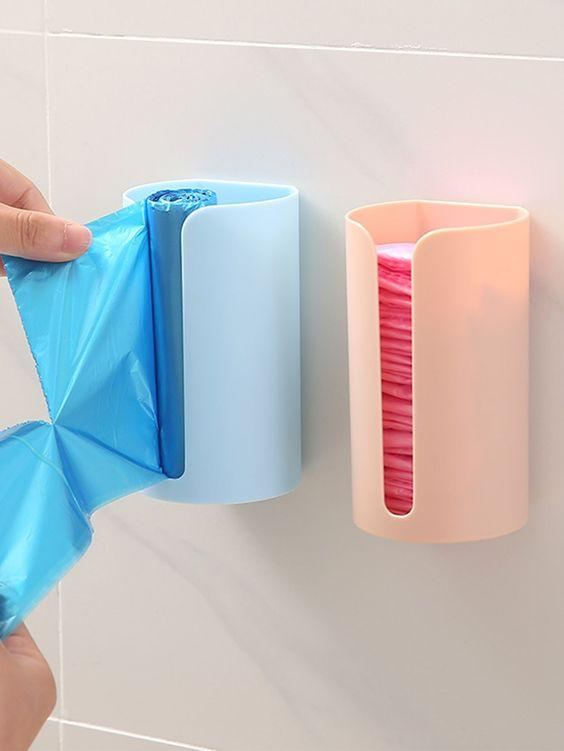HDPE: (347, 200, 529, 542), (121, 178, 306, 505)
LDPE: (7, 188, 211, 512)
